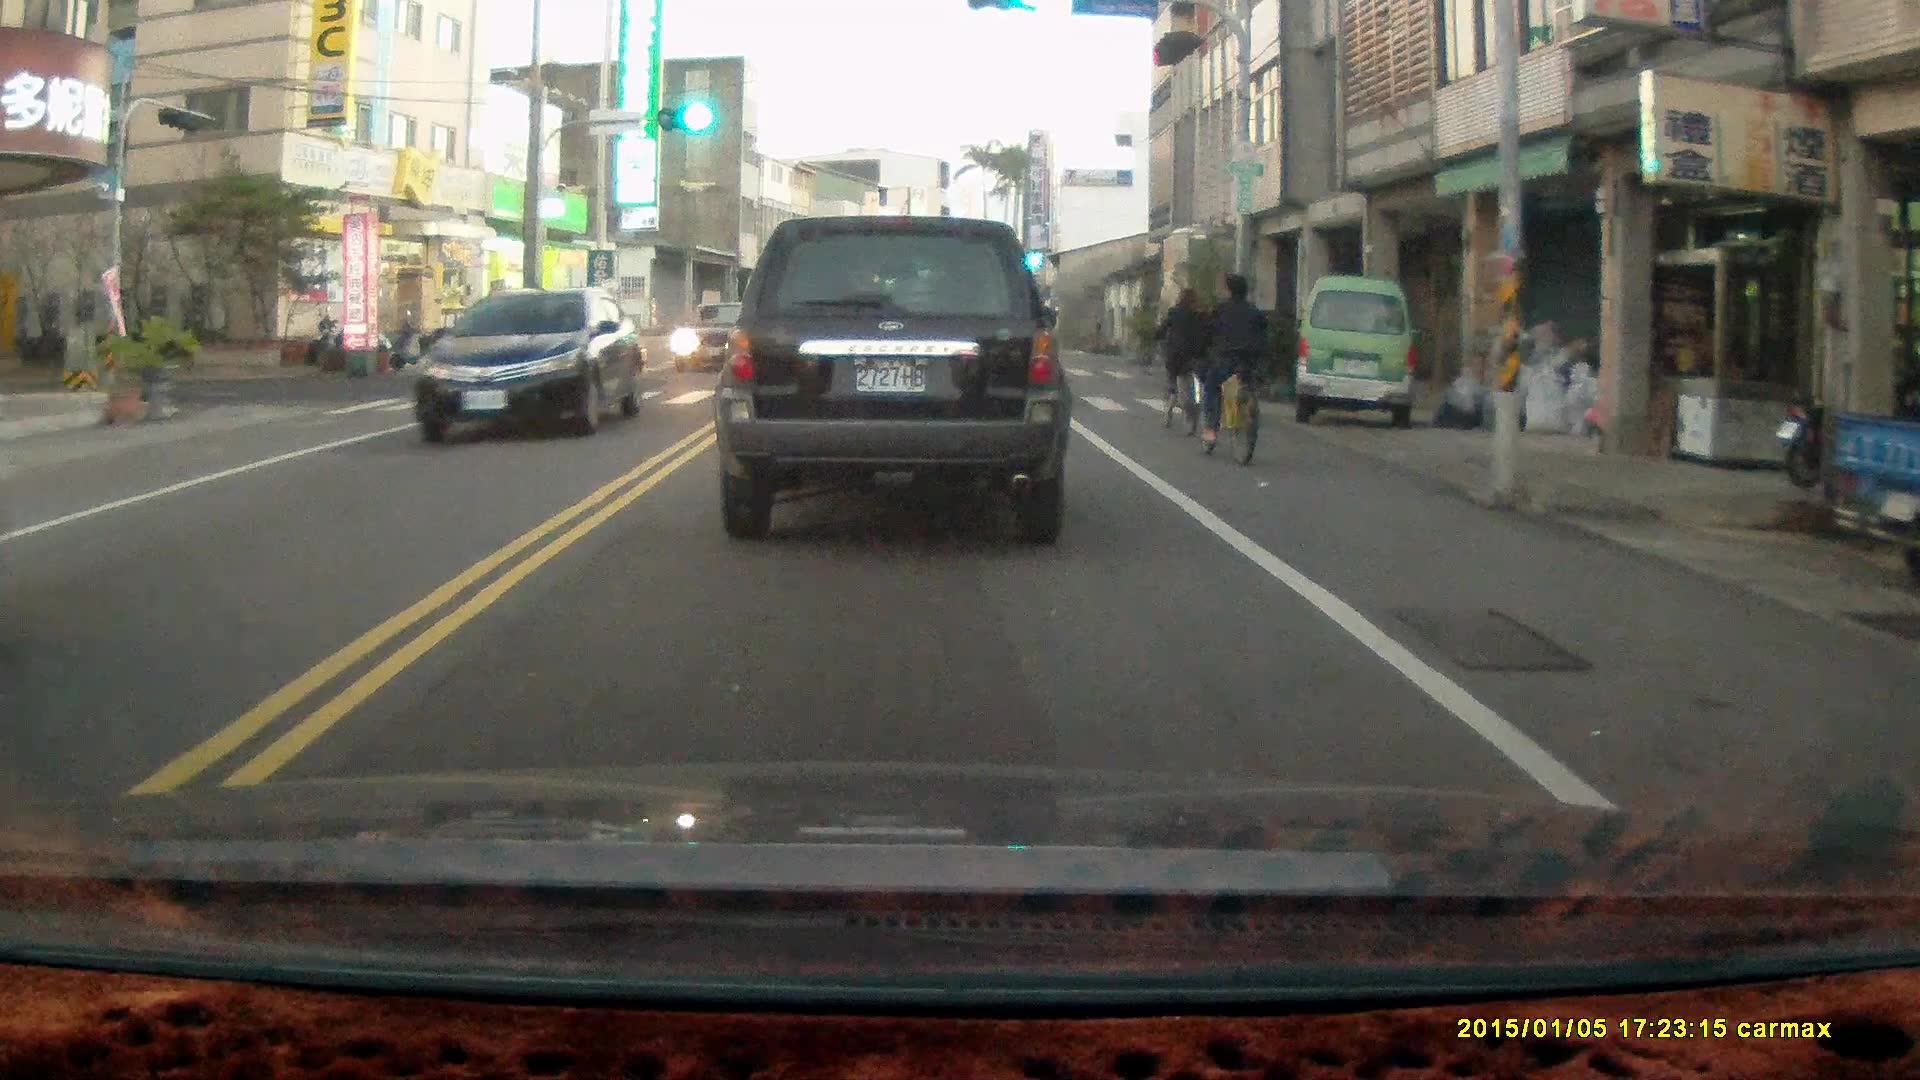rider: (1192, 269, 1267, 465), (1148, 281, 1213, 437)
vehicle: (716, 215, 1076, 543), (415, 287, 644, 447), (1293, 275, 1418, 431), (675, 299, 778, 377)
